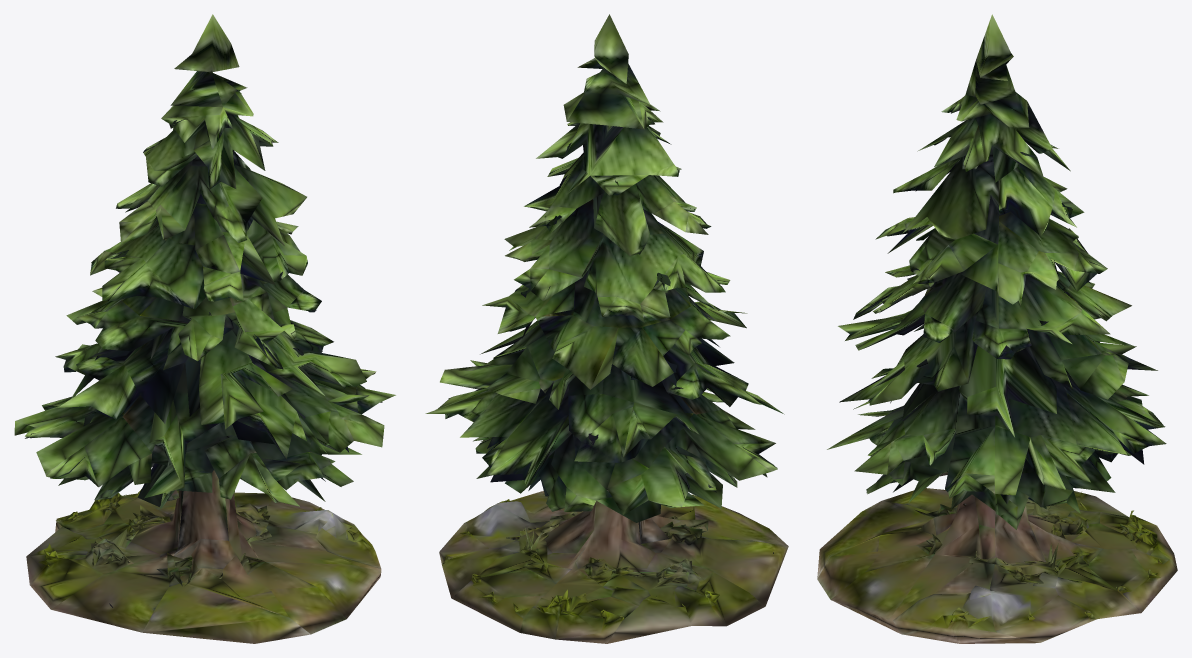
The model's file is arvore_detalhada.glb.
The picture shows the model from 3 angles, left to right: view 1: azimuth 30°, elevation 25°; view 2: azimuth 150°, elevation 25°; view 3: azimuth 270°, elevation 25°; orthographic projection.
Parts seen in each view (by area): view 1: world; view 2: world; view 3: world.
Boxes of the visible parts, x1,y1,x2,y2 form: world: [14, 14, 395, 643]; world: [425, 14, 788, 643]; world: [817, 14, 1177, 643].
Bounding box in the file's own units: 0.6225 × 0.9986 × 0.5822.
1 material, 1 textured.
